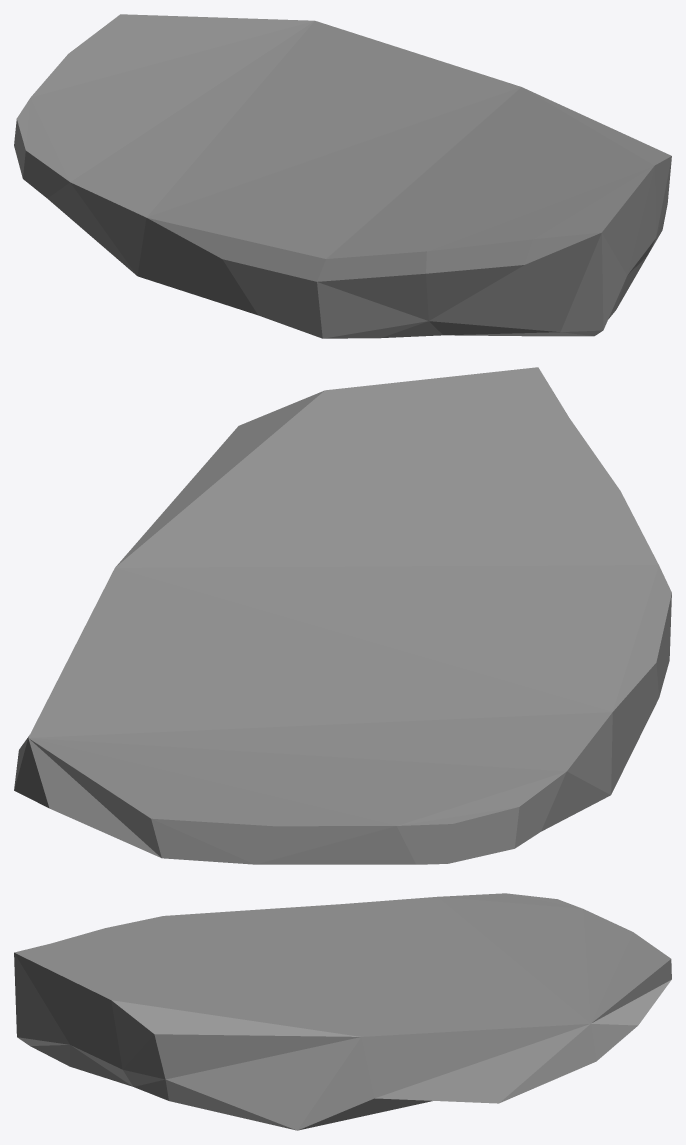
Rendered from EM_Rock37.fbx.
3 renders of one model, top to bottom at view 1: azimuth 30°, elevation 25°; view 2: azimuth 150°, elevation 25°; view 3: azimuth 270°, elevation 25°, orthographic. The views are drawn at different scales.
Parts seen in each view (by area): view 1: EM_Rock37_LOD0; view 2: EM_Rock37_LOD0; view 3: EM_Rock37_LOD0.
Boxes of the visible parts, x1,y1,x2,y2 form: EM_Rock37_LOD0: [14, 14, 671, 338]; EM_Rock37_LOD0: [14, 367, 671, 864]; EM_Rock37_LOD0: [14, 893, 671, 1130].
Size of what is drawn, in the model's own units: 3.84 by 1.07 by 5.85.
